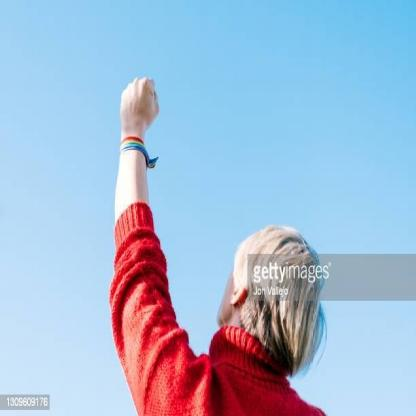fist: (114, 70, 161, 132)
